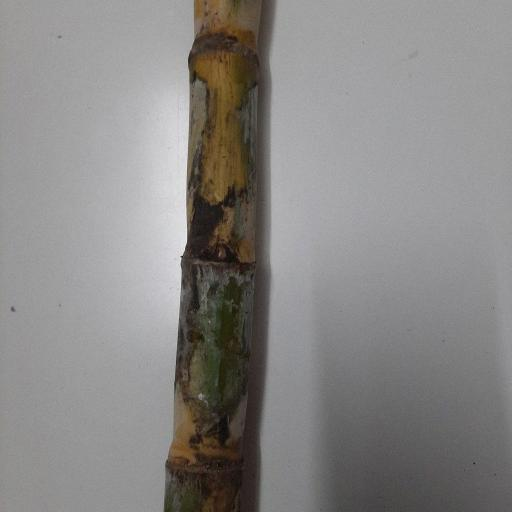Bud: (212, 239, 234, 262)
